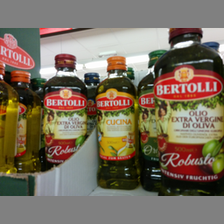oil: (154, 28, 224, 195), (95, 56, 141, 187), (42, 54, 86, 171)
